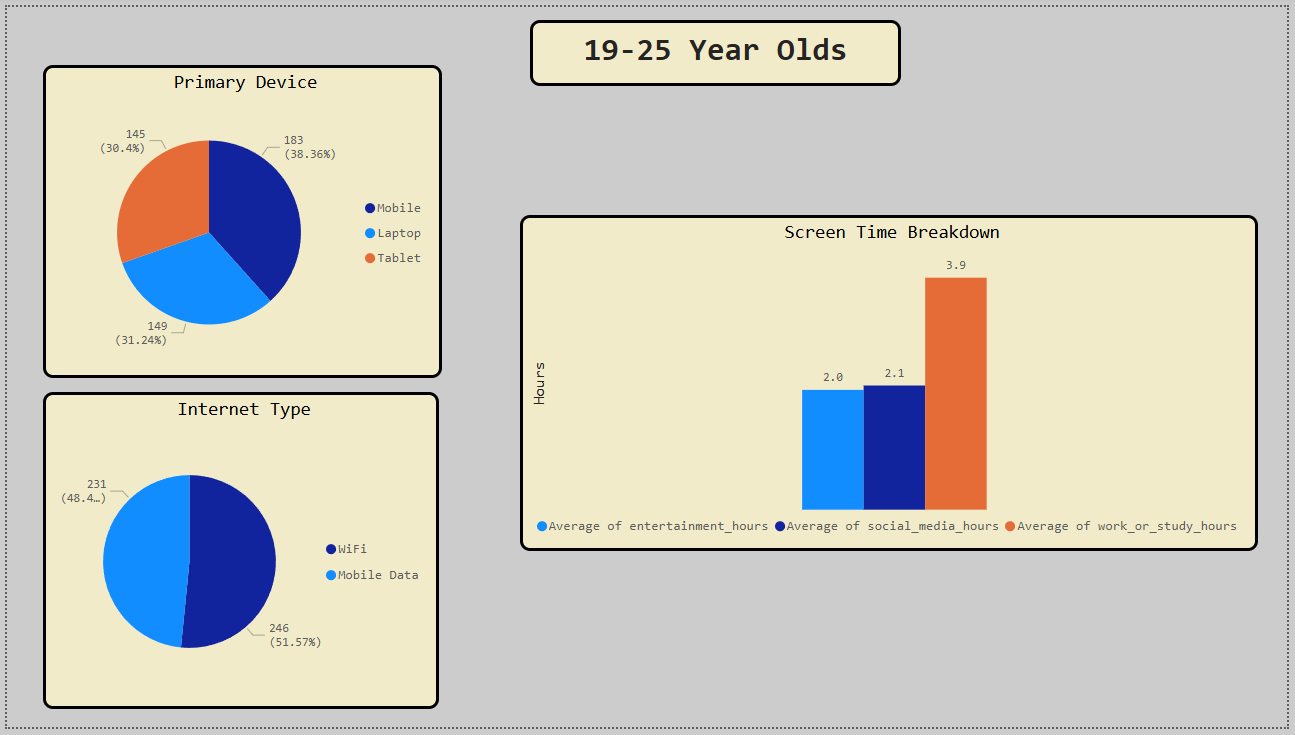

What the dashboard file says about the page in this screenshot:
{"tool":"powerbi","page":{"name":"19-25yr olds","canvas":[1280,720],"ordinal":2},"visuals":[{"type":"pieChart","title":"Primary Device","fields":{"Category":["daily_internet_usage_by_age_gro.primary_device"],"Y":["CountNonNull(daily_internet_usage_by_age_gro.primary_device)"]},"box":[36.1,57.7,398.8,313.3],"z":0},{"type":"pieChart","title":"Internet Type","fields":{"Category":["daily_internet_usage_by_age_gro.internet_type"],"Y":["CountNonNull(daily_internet_usage_by_age_gro.internet_type)"]},"box":[36.1,385.4,395.7,316.4],"z":1000},{"type":"clusteredColumnChart","title":"Screen Time Breakdown","fields":{"Y":["Avg(daily_internet_usage_by_age_gro.entertainment_hours)","Avg(daily_internet_usage_by_age_gro.social_media_hours)","Avg(daily_internet_usage_by_age_gro.work_or_study_hours)"]},"box":[513.2,208.2,737.9,336],"z":2000},{"type":"textbox","box":[522.5,13.4,371,66],"z":3000}]}

Visuals, with their boxes in screenshot pixels (x1, y1, x2, y2), scaled from the page's 1280x720 canvas onto the 1295x735 screenshot:
"Primary Device" pieChart: (left=37, top=59, right=440, bottom=379)
"Internet Type" pieChart: (left=37, top=393, right=437, bottom=716)
"Screen Time Breakdown" clusteredColumnChart: (left=519, top=213, right=1266, bottom=556)
textbox: (left=529, top=14, right=904, bottom=81)
